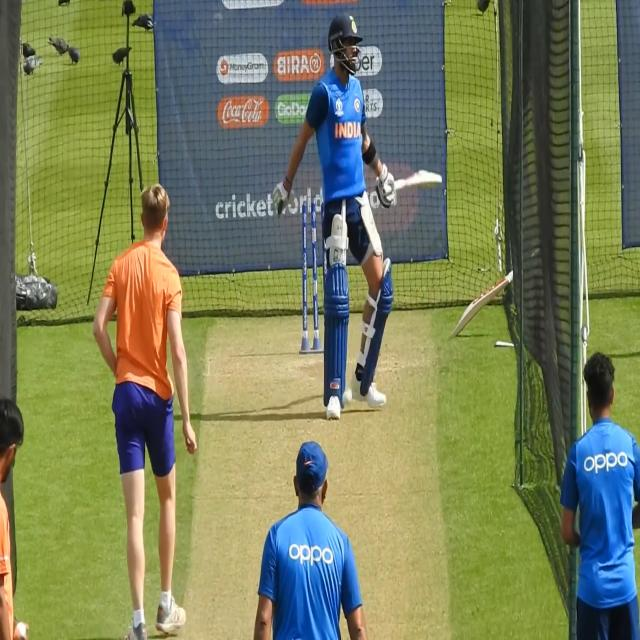stump: (301, 199, 323, 354)
